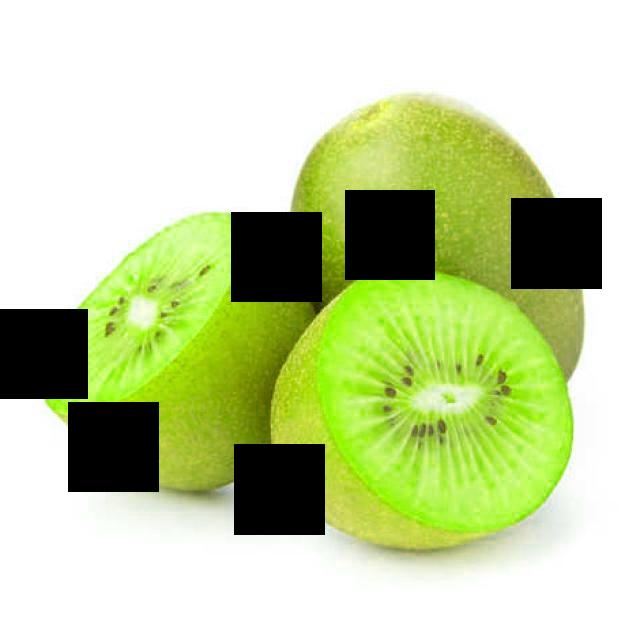kiwi: (291, 87, 587, 432)
